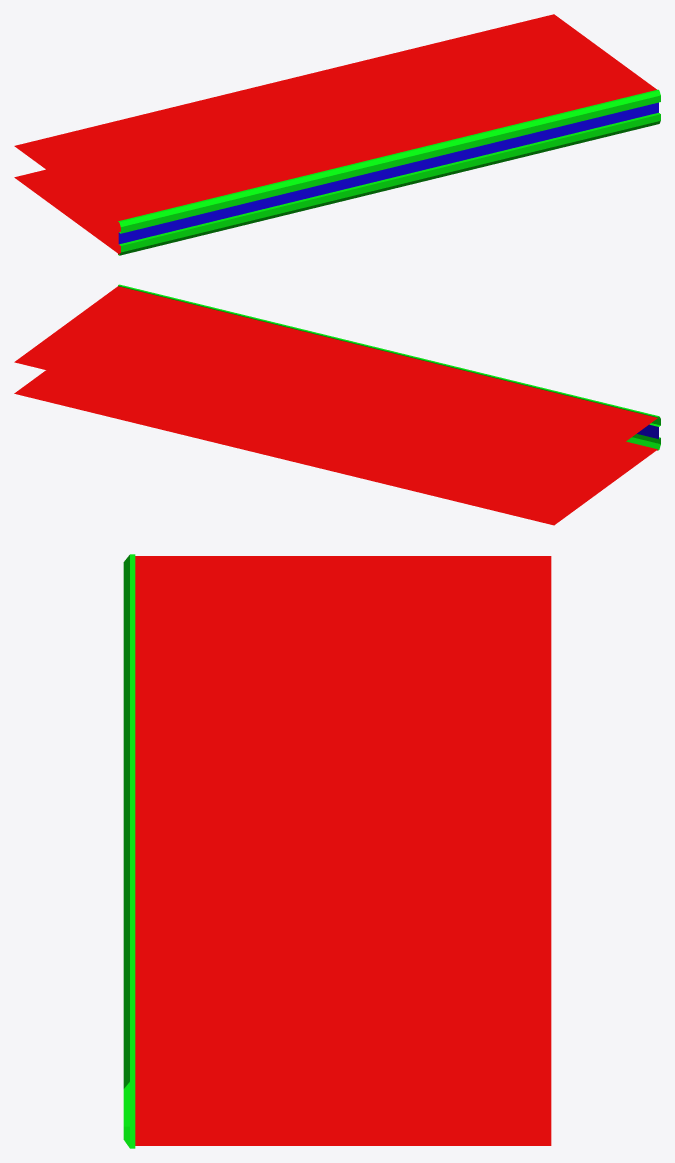
Rendered from Floor - 18 Units.FBX.
3 renders of one model, top to bottom at view 1: azimuth 30°, elevation 25°; view 2: azimuth 150°, elevation 25°; view 3: azimuth 270°, elevation 25°, orthographic. The views are drawn at different scales.
Parts seen in each view (by area): view 1: Floor_low004; view 2: Floor_low004; view 3: Floor_low004.
Part boxes in pixels (<box>): Floor_low004: <box>14,14,660,255</box>; Floor_low004: <box>14,284,660,525</box>; Floor_low004: <box>123,554,551,1148</box>.
Size of the model in its own units: 1800 by 107 by 617.
